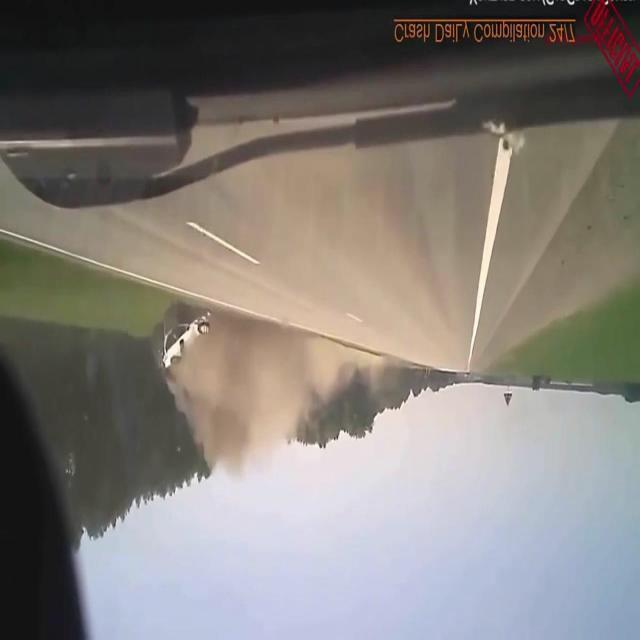severe: (152, 301, 229, 390)
